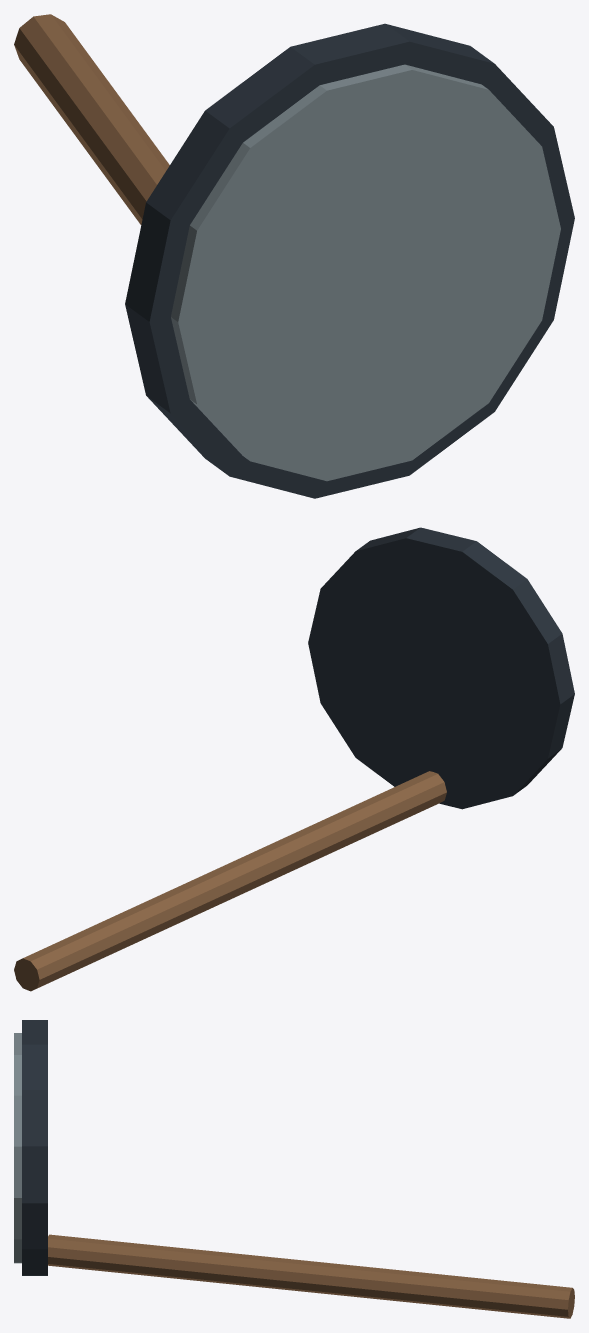
File: L-50_inspection_mirror.glb
3 views of the same model, one above another, from view 1: azimuth 30°, elevation 25°; view 2: azimuth 150°, elevation 25°; view 3: azimuth 270°, elevation 25° (orthographic). The views are drawn at different scales.
Parts seen in each view (by area): view 1: L-50_inspection_mirror; view 2: L-50_inspection_mirror; view 3: L-50_inspection_mirror.
Part boxes in pixels (x1,y1,x2,y2): L-50_inspection_mirror: [14, 14, 574, 498]; L-50_inspection_mirror: [14, 527, 574, 991]; L-50_inspection_mirror: [14, 1020, 574, 1318].
Bounding box in the file's own units: 0.1018 × 0.0985 × 0.2143.
